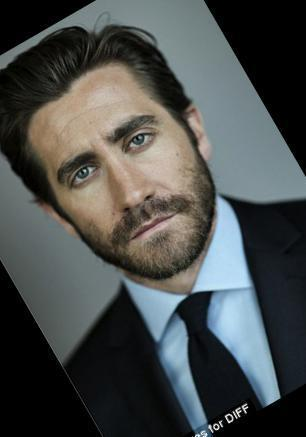Sober: (60, 83, 196, 257)
